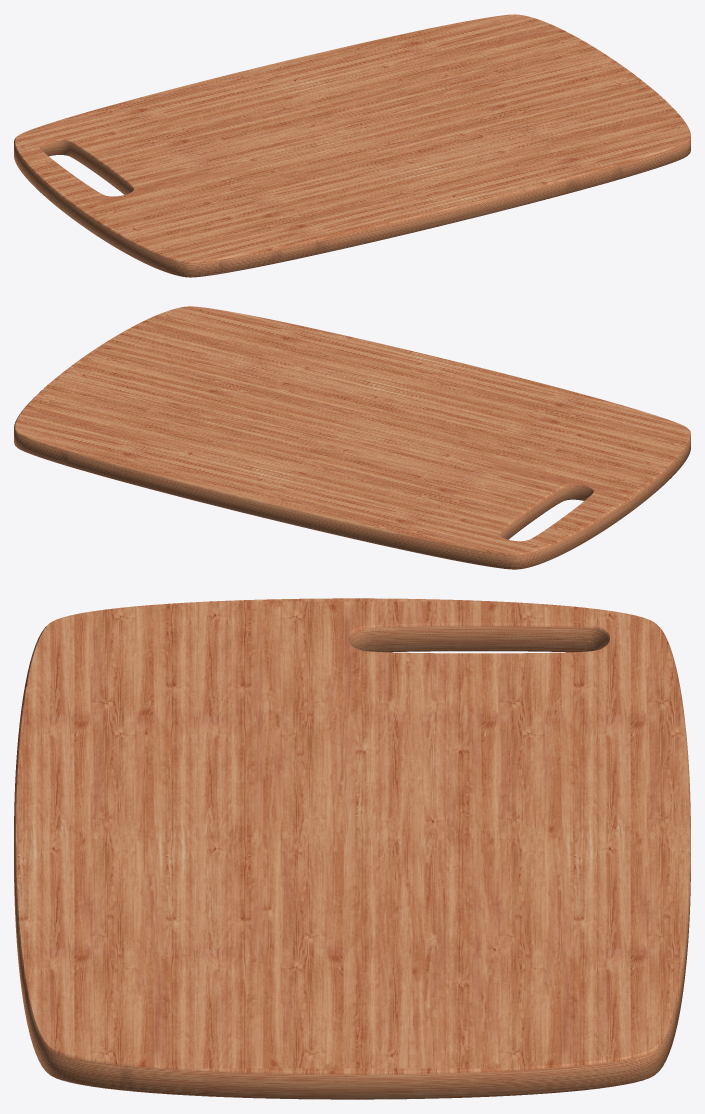
File: Cutting_board.FBX
3 views of the same model, one above another, from view 1: azimuth 30°, elevation 25°; view 2: azimuth 150°, elevation 25°; view 3: azimuth 270°, elevation 25° (orthographic). The views are drawn at different scales.
Parts seen in each view (by area): view 1: Obj3d66-451592-4-602; view 2: Obj3d66-451592-4-602; view 3: Obj3d66-451592-4-602.
Part boxes in pixels (bbox=[...]): Obj3d66-451592-4-602: bbox=[14, 14, 690, 277]; Obj3d66-451592-4-602: bbox=[14, 306, 690, 569]; Obj3d66-451592-4-602: bbox=[14, 598, 690, 1099].
Size of the model in its own units: 162 by 4.42 by 97.38.
